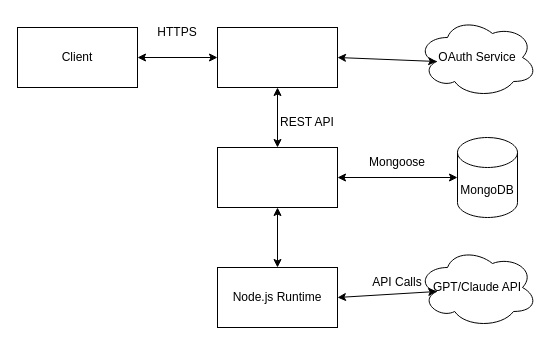
Image size: 555x345. Some labels were removed from this diagram. The centre of each missing label's shape, as x and y in pixels:
"Express.js API" goes at pixel 277 177.
"React Frontend" goes at pixel 277 57.
